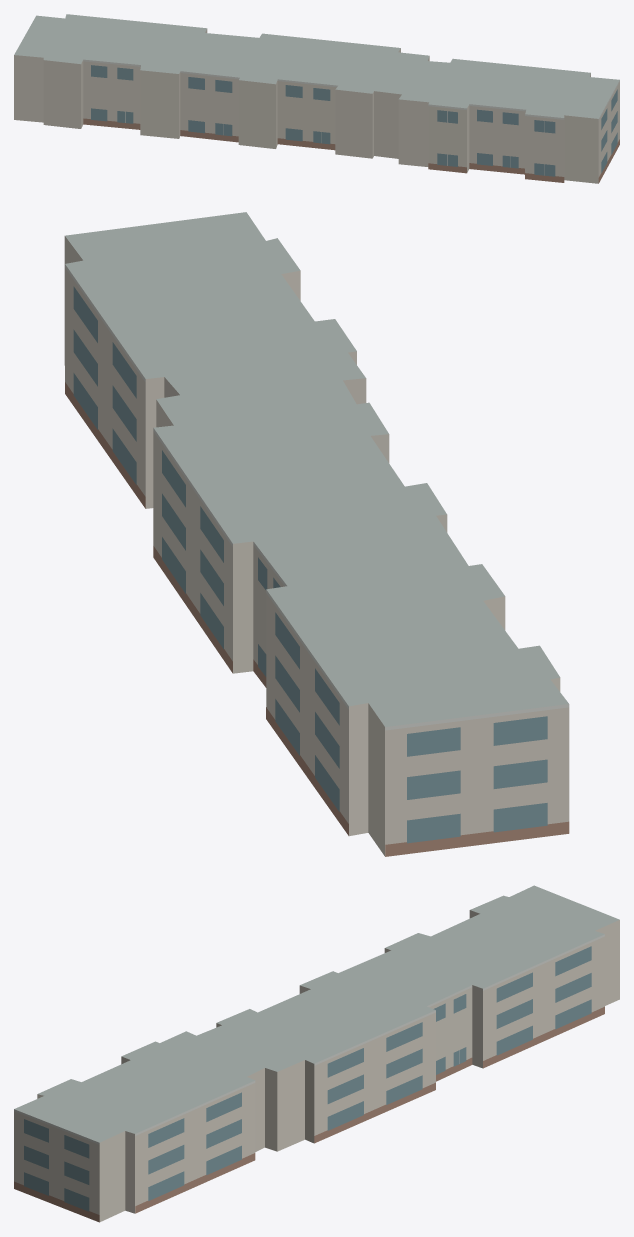
The model's file is survey-upis-32846102.glb.
3 renders of one model, top to bottom at view 1: azimuth 30°, elevation 25°; view 2: azimuth 150°, elevation 25°; view 3: azimuth 270°, elevation 25°, orthographic. The views are drawn at different scales.
Parts seen in each view (by area): view 1: survey-upis-32846102.tmp; view 2: survey-upis-32846102.tmp; view 3: survey-upis-32846102.tmp.
Boxes of the visible parts, x1=… form: survey-upis-32846102.tmp: x1=14, y1=14, x2=619, y2=183; survey-upis-32846102.tmp: x1=64, y1=212, x2=569, y2=856; survey-upis-32846102.tmp: x1=14, y1=885, x2=619, y2=1222.
Bounding box in the file's own units: 63.31 × 9.15 × 63.01.
